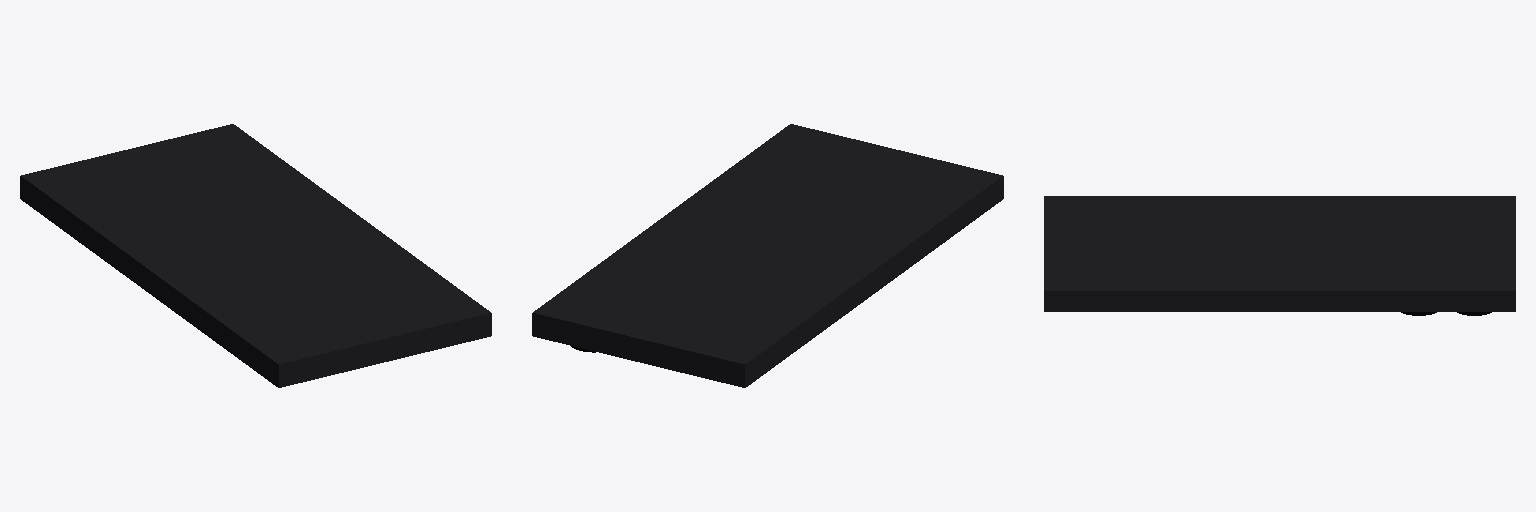
robot.urdf — iphone_16_pro_max:
<?xml version="1.0"?>
<!-- iPhone 16 Pro Max: generated by imuninn from Apple's dimensional drawings (iphone-frames dataset). Frames: device = display centre on the front glass (x right, y top, z out of the screen); cam_*_optical = OpenCV axes. Geometry and mass are approximate. -->
<robot name="iphone_16_pro_max">
  <material name="iphone_body">
    <color rgba="0.15 0.15 0.17 1" />
  </material>
  <material name="iphone_lens">
    <color rgba="0.05 0.05 0.06 1" />
  </material>
  <link name="device">
    <visual name="body">
      <origin xyz="0 0 -0.004125" rpy="0 0 0" />
      <geometry>
        <box size="0.07758 0.16303 0.00825" />
      </geometry>
      <material name="iphone_body" />
    </visual>
    <collision name="body">
      <origin xyz="0 0 -0.004125" rpy="0 0 0" />
      <geometry>
        <box size="0.07758 0.16303 0.00825" />
      </geometry>
    </collision>
    <visual name="lens_ultra_wide">
      <origin xyz="0.02462 0.067345 -0.01039" rpy="0 0 0" />
      <geometry>
        <cylinder radius="0.0081" length="0.00428" />
      </geometry>
      <material name="iphone_lens" />
    </visual>
    <visual name="lens_main">
      <origin xyz="0.02462 0.048105 -0.01039" rpy="0 0 0" />
      <geometry>
        <cylinder radius="0.0081" length="0.00428" />
      </geometry>
      <material name="iphone_lens" />
    </visual>
    <visual name="lens_telephoto">
      <origin xyz="0.00661 0.057725 -0.01039" rpy="0 0 0" />
      <geometry>
        <cylinder radius="0.0081" length="0.00428" />
      </geometry>
      <material name="iphone_lens" />
    </visual>
    <inertial>
      <origin xyz="0 0 -0.004125" rpy="0 0 0" />
      <mass value="0.24" />
      <inertia ixx="0.000532937" ixy="0" ixz="0" iyy="0.000121734" iyz="0" izz="0.000651949" />
    </inertial>
  </link>
  <link name="magsafe" />
  <joint name="device_to_magsafe" type="fixed">
    <parent link="device" />
    <child link="magsafe" />
    <origin xyz="0 -0.000245 -0.00825" rpy="3.14159265 0 3.14159265" />
  </joint>
  <link name="cam_ultra_wide_optical" />
  <joint name="device_to_cam_ultra_wide_optical" type="fixed">
    <parent link="device" />
    <child link="cam_ultra_wide_optical" />
    <origin xyz="0.02462 0.067345 -0.01253" rpy="3.14159265 0 -1.57079633" />
  </joint>
  <link name="cam_main_optical" />
  <joint name="device_to_cam_main_optical" type="fixed">
    <parent link="device" />
    <child link="cam_main_optical" />
    <origin xyz="0.02462 0.048105 -0.01253" rpy="3.14159265 0 -1.57079633" />
  </joint>
  <link name="cam_telephoto_optical" />
  <joint name="device_to_cam_telephoto_optical" type="fixed">
    <parent link="device" />
    <child link="cam_telephoto_optical" />
    <origin xyz="0.00661 0.057725 -0.01253" rpy="3.14159265 0 -1.57079633" />
  </joint>
  <link name="cam_front_optical" />
  <joint name="device_to_cam_front_optical" type="fixed">
    <parent link="device" />
    <child link="cam_front_optical" />
    <origin xyz="0.00732 0.073795 0" rpy="0 0 1.57079633" />
  </joint>
  <link name="imu" />
  <joint name="device_to_imu" type="fixed">
    <parent link="device" />
    <child link="imu" />
    <origin xyz="0 0 0" rpy="0 0 0" />
  </joint>
</robot>

--- What the picture shows (computed from the rendered views, not written in the file) ---
Views: 3 orthographic renders of the robot side by side, from view 1: azimuth 30°, elevation 25°; view 2: azimuth 150°, elevation 25°; view 3: azimuth 270°, elevation 25°.
Model iphone_16_pro_max with 7 links and 6 joints (6 fixed), rooted at device, posed every joint at zero.
Visible links, largest first — view 1: device; view 2: device; view 3: device.
Boxes of the visible links, <box> form: device: <box>20,124,491,387</box>; device: <box>532,124,1003,387</box>; device: <box>1044,196,1515,315</box>.
Bounding box of the posed robot: 0.0776 × 0.163 × 0.0125 m (x, y, z).
Geometry: primitives only (box / cylinder / sphere), no mesh files.
